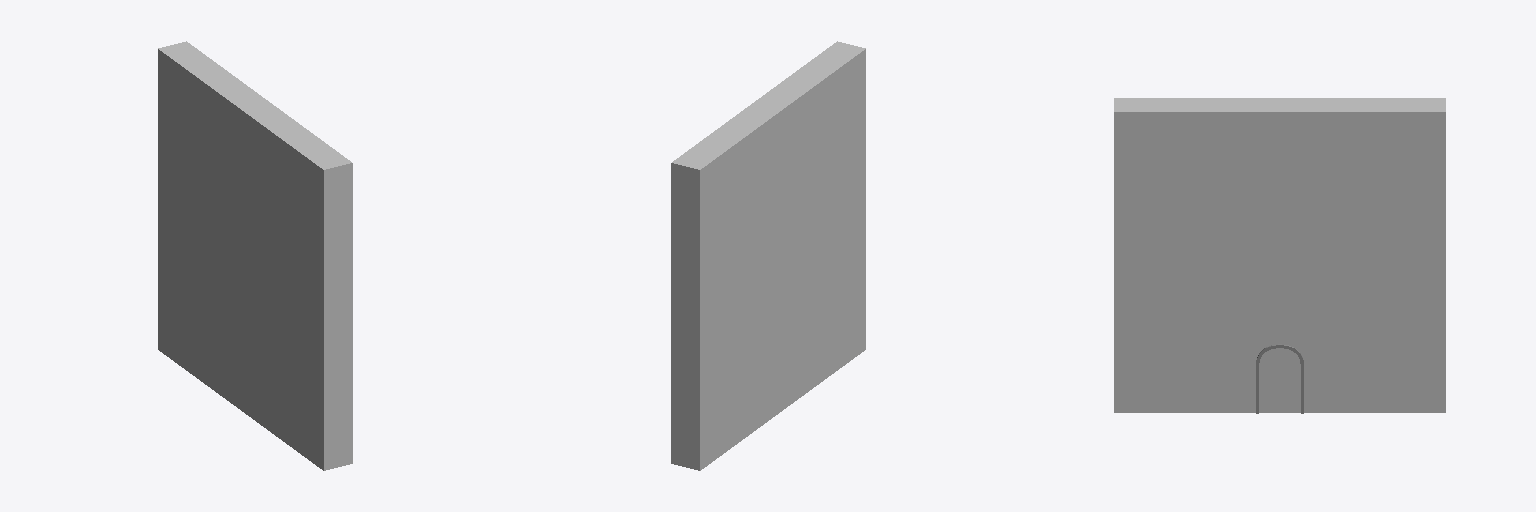
File: door_02.obj
The picture shows the model from 3 angles: view 1: azimuth 30°, elevation 25°; view 2: azimuth 150°, elevation 25°; view 3: azimuth 270°, elevation 25°; orthographic projection.
Parts seen in each view (by area): view 1: 无标题.008_无标题.006; view 2: 无标题.008_无标题.006; view 3: 无标题.008_无标题.006, 无标题.006_无标题.011.
Part boxes in pixels (left/top/right/bottom): 无标题.008_无标题.006: left=158, top=41, right=352, bottom=470; 无标题.008_无标题.006: left=671, top=41, right=865, bottom=470; 无标题.008_无标题.006: left=1114, top=98, right=1445, bottom=412; 无标题.006_无标题.011: left=1256, top=344, right=1303, bottom=413.
Bounding box in the file's own units: 0.107 × 1 × 1.